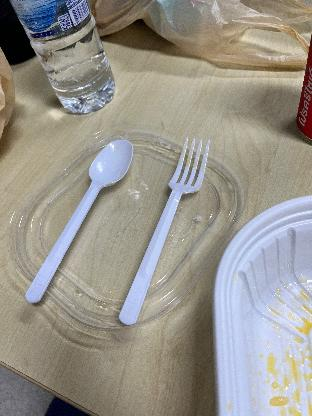Others: (110, 138, 218, 332), (24, 134, 138, 310)
Plastic Bottle: (12, 0, 119, 114)
